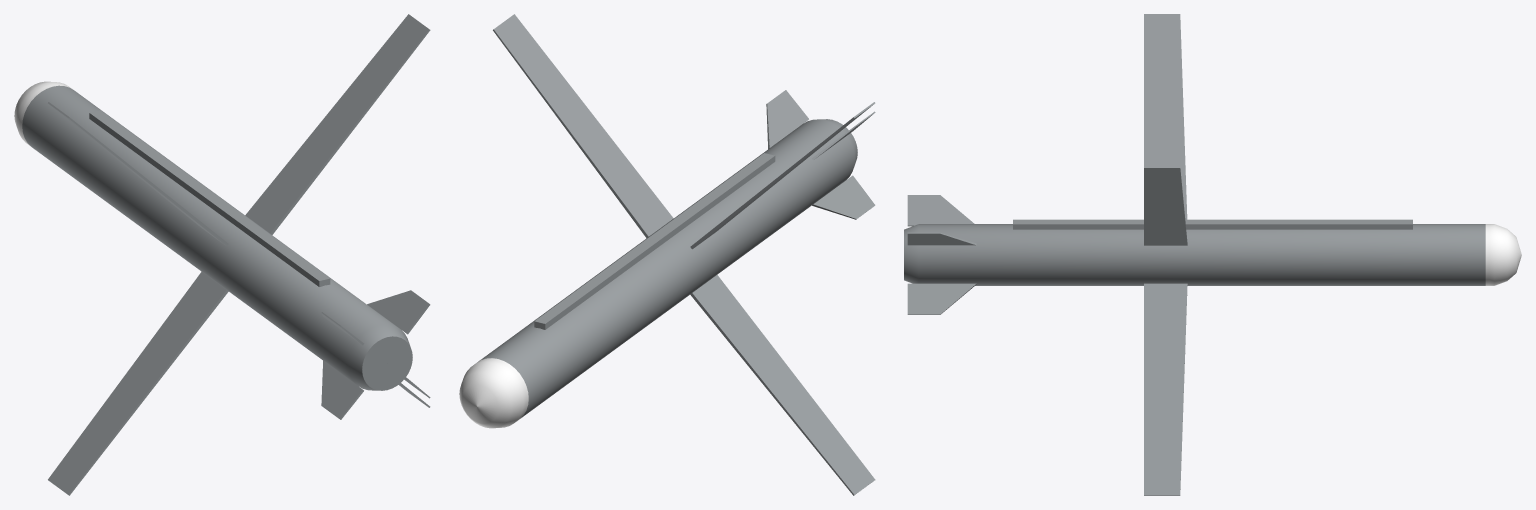
File: spikenlos.glb
The picture shows the model from 3 angles, left to right: view 1: azimuth 30°, elevation 25°; view 2: azimuth 150°, elevation 25°; view 3: azimuth 270°, elevation 25°; orthographic projection. The views are drawn at different scales.
Parts seen in each view (by area): view 1: spikenlos_body; view 2: spikenlos_body; view 3: spikenlos_body.
Boxes of the visible parts, <box> form: spikenlos_body: <box>14,14,430,495</box>; spikenlos_body: <box>459,14,875,495</box>; spikenlos_body: <box>904,14,1521,495</box>.
Bounding box in the file's own units: 0.9998 × 0.9998 × 1.7.
3 materials, 3 textured.
